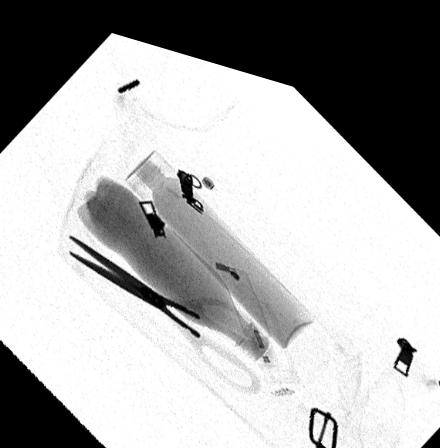Scissors: (60, 226, 268, 385)
